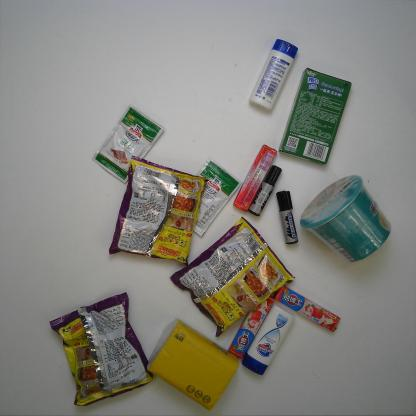Candy: (274, 286, 341, 333), (233, 144, 278, 212), (228, 293, 275, 358)
Dessert: (278, 67, 353, 166)
Instant Noodles: (170, 215, 296, 338), (49, 291, 156, 407), (108, 154, 209, 267), (299, 174, 392, 263)
Personal Hygiene: (239, 303, 296, 377), (248, 38, 299, 112)
Seasoner: (92, 104, 166, 184), (181, 157, 242, 237)
Stationery: (247, 164, 282, 217), (276, 190, 299, 245)
Tissue: (146, 318, 240, 411)
